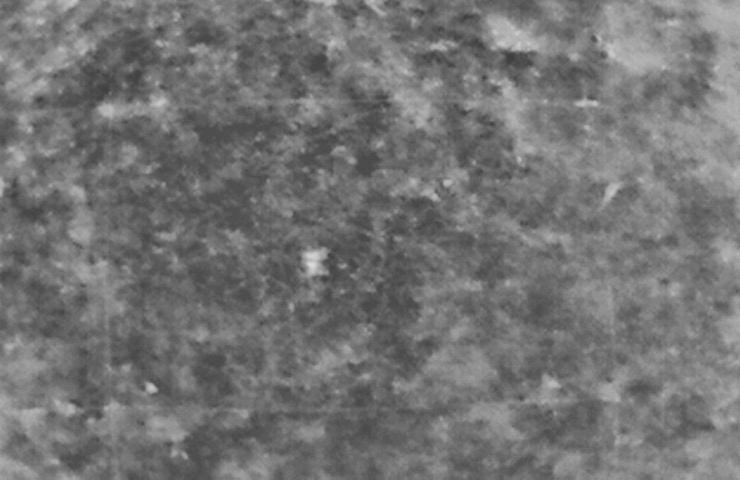landmines: (297, 244, 336, 282)
